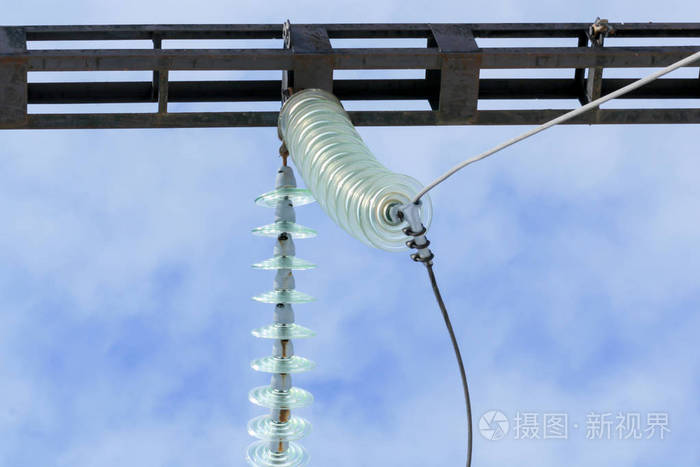insulator: (279, 90, 431, 251), (249, 187, 317, 467)
